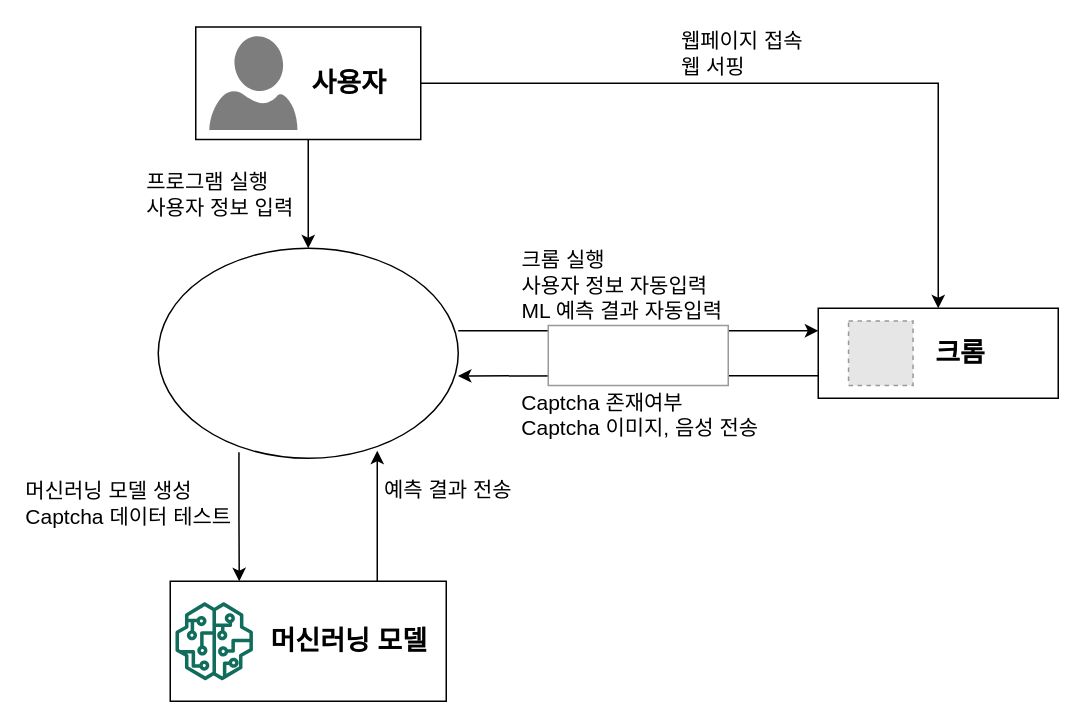
The diagram is 1085 pixels wide and 728 high, and some of its shapes have lost their labels. Grey dashed boxes stand in for pictures. The centre of each missing label's shape, as x and y in pixels:
R.U.Robot: (307,352)
크롬 드라이버: (637,355)
